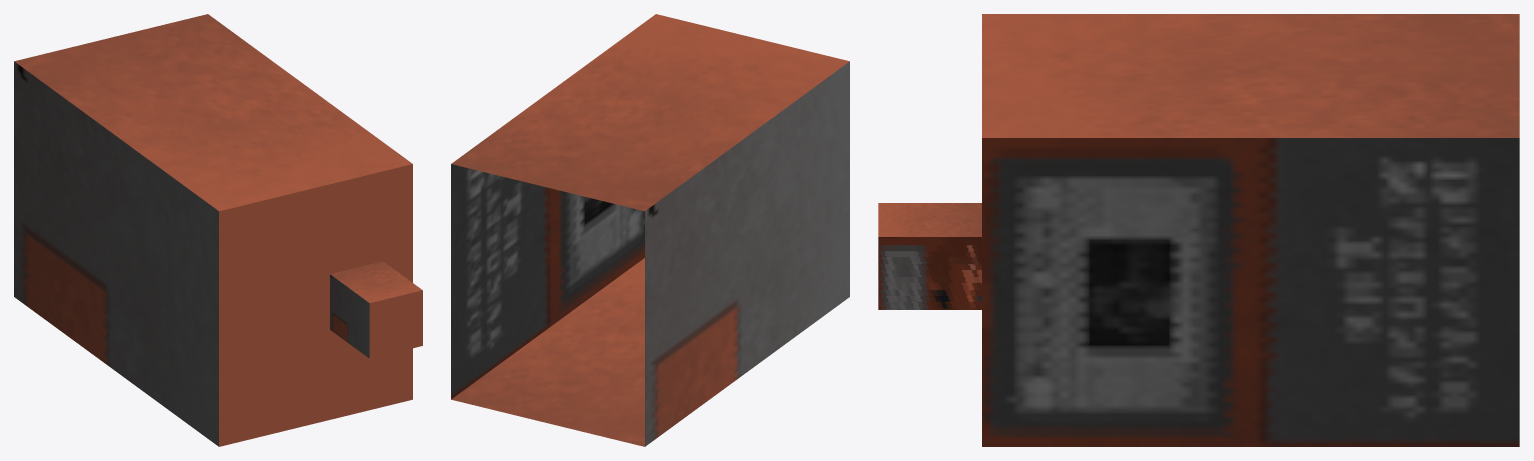
Rendered from pz_native_street_decoration_01_84.obj.
3 views of the same model, side by side, from view 1: azimuth 30°, elevation 25°; view 2: azimuth 150°, elevation 25°; view 3: azimuth 270°, elevation 25° (orthographic). The views are drawn at different scales.
Parts seen in each view (by area): view 1: pz_native_street_decoration_01_84; view 2: pz_native_street_decoration_01_84; view 3: pz_native_street_decoration_01_84.
Boxes of the visible parts, left/top/right/bottom form: pz_native_street_decoration_01_84: left=14, top=14, right=422, bottom=446; pz_native_street_decoration_01_84: left=451, top=14, right=849, bottom=446; pz_native_street_decoration_01_84: left=878, top=14, right=1519, bottom=446.
Size of the model in its own units: 0.6723 by 0.7808 by 1.47.
Materials: 1 (1 with a texture image).
